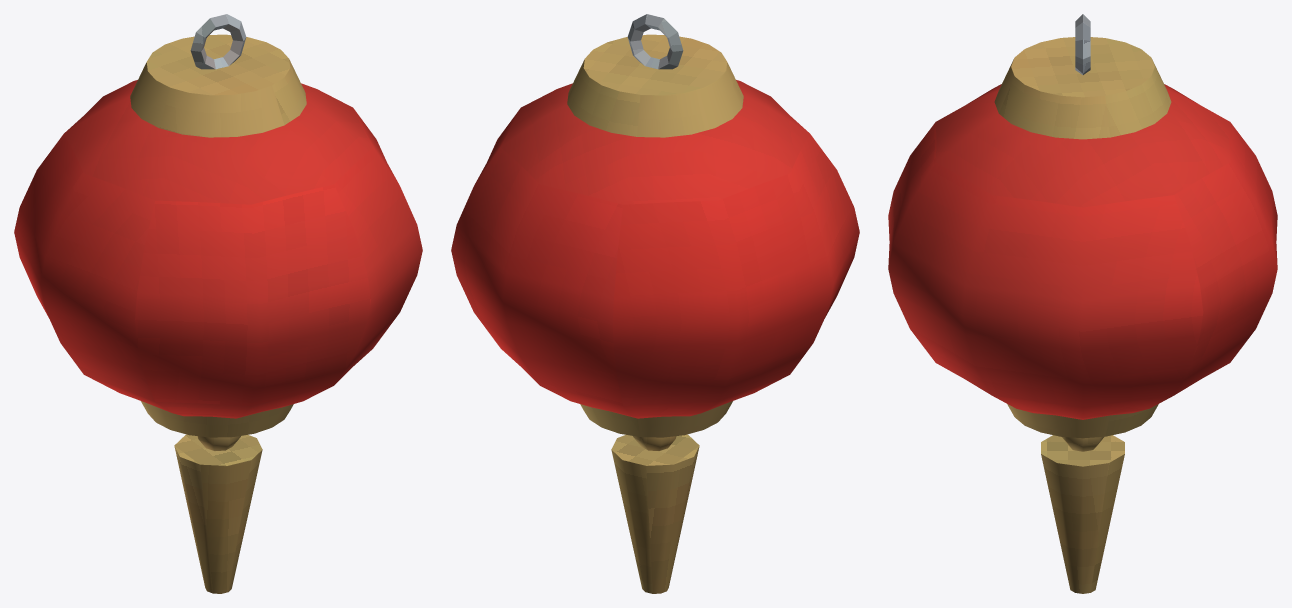
File: lantern.glb
The picture shows the model from 3 angles, left to right: view 1: azimuth 30°, elevation 25°; view 2: azimuth 150°, elevation 25°; view 3: azimuth 270°, elevation 25°; orthographic projection.
Parts seen in each view (by area): view 1: lantern; view 2: lantern; view 3: lantern.
Boxes of the visible parts, x1,y1,x2,y2 form: lantern: (14, 14, 422, 593); lantern: (451, 14, 859, 593); lantern: (888, 14, 1277, 593).
Size of the model in its own units: 0.37 by 0.5686 by 0.3519.
3 materials, 3 textured.
